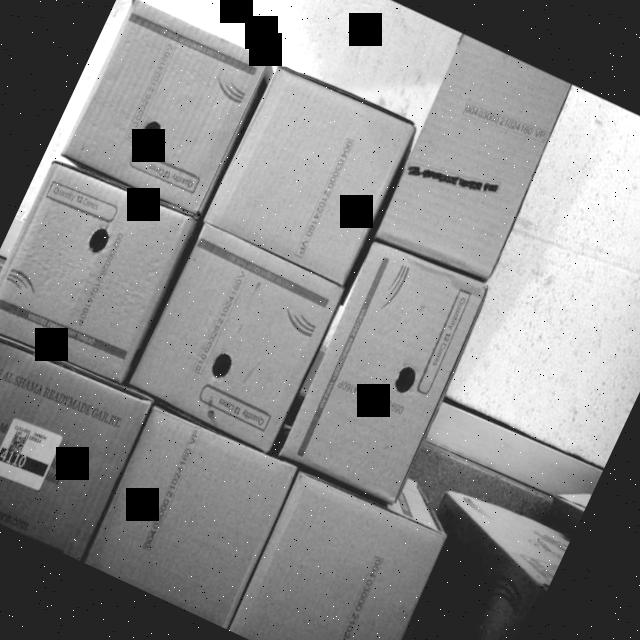box: (274, 244, 493, 510), (370, 35, 576, 291), (121, 224, 347, 456), (201, 61, 422, 293), (81, 401, 301, 629), (52, 0, 275, 222), (0, 154, 197, 387), (224, 465, 450, 640), (0, 330, 151, 561)
